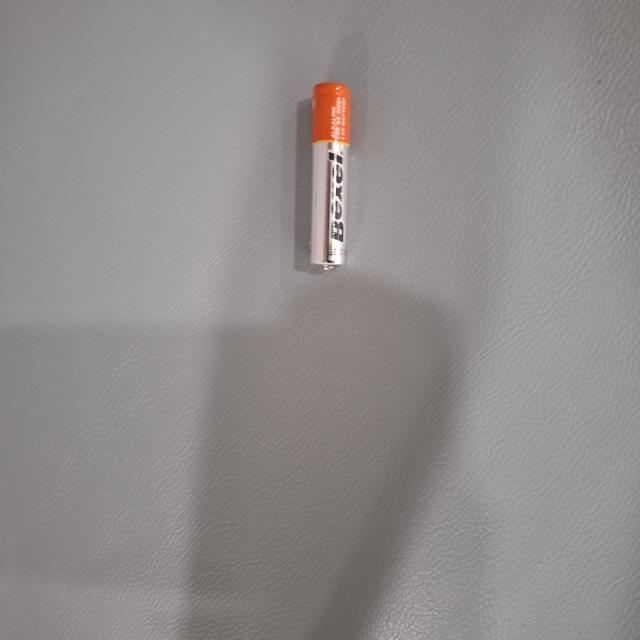AA: (62, 384, 205, 442)
